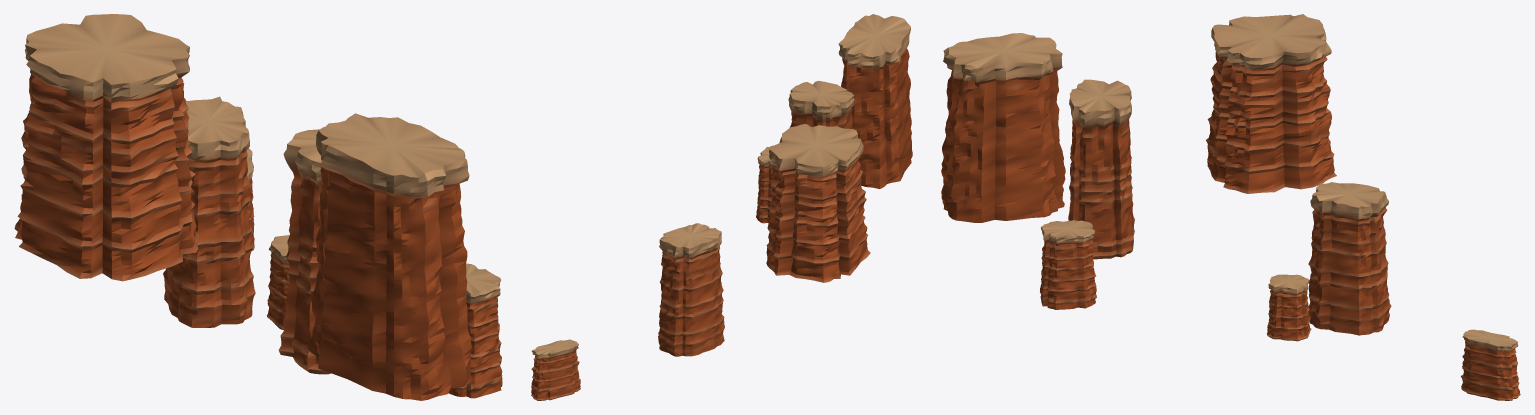
Rendered from terrain-079.glb.
3 renders of one model, left to right at view 1: azimuth 30°, elevation 25°; view 2: azimuth 150°, elevation 25°; view 3: azimuth 270°, elevation 25°, orthographic. The views are drawn at different scales.
Visible parts, largest first — view 1: terrain-079; view 2: terrain-079; view 3: terrain-079.
Boxes of the visible parts, left/top/right/bottom form: terrain-079: left=14, top=14, right=502, bottom=400; terrain-079: left=531, top=14, right=912, bottom=400; terrain-079: left=941, top=14, right=1520, bottom=400.
Size of the model in its own units: 109 by 109 by 205.
